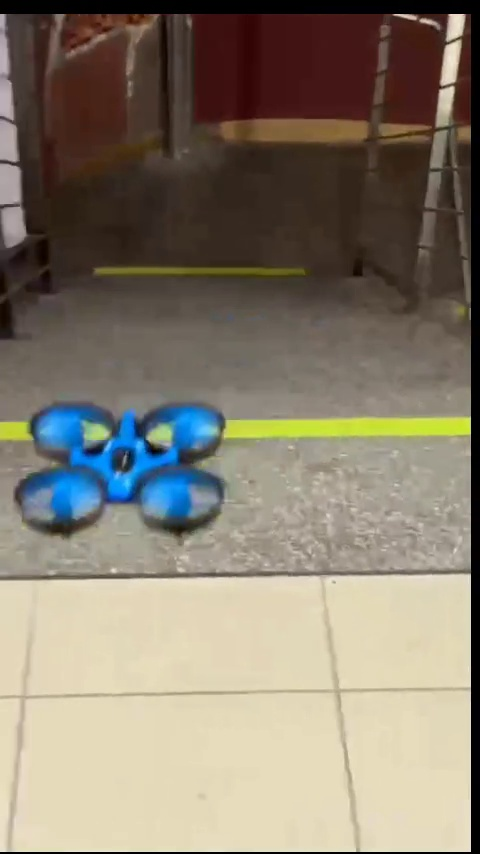drone: (24, 398, 230, 535)
